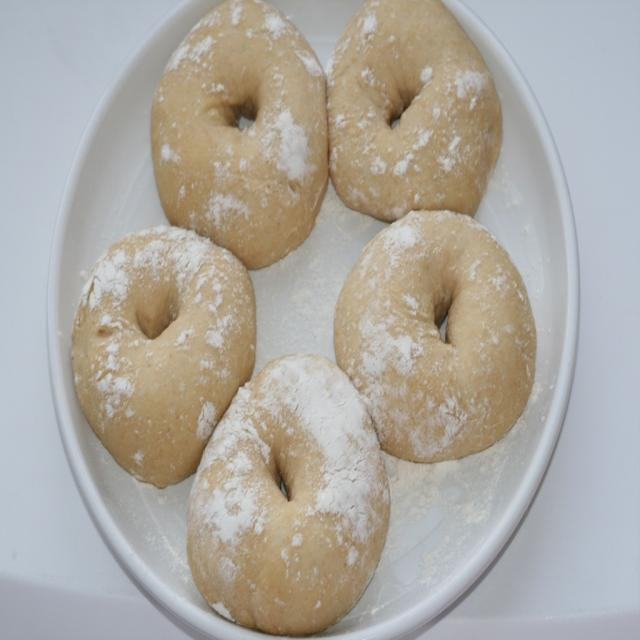Bagel: (185, 349, 393, 639), (332, 210, 536, 466), (148, 0, 330, 272), (71, 225, 256, 489), (332, 0, 500, 218)
